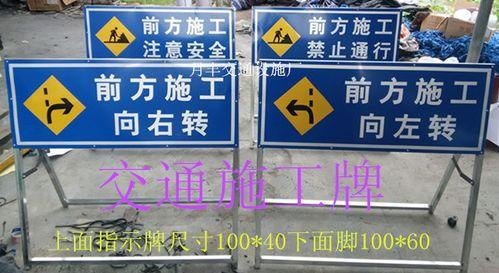sign: (8, 62, 236, 147), (267, 67, 483, 152), (254, 9, 397, 61), (87, 10, 231, 59)
